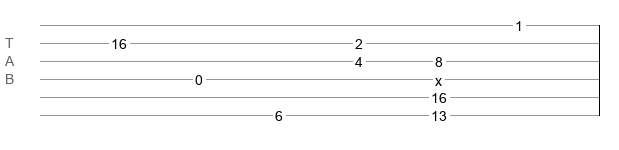0: (195, 72, 203, 82)
1: (515, 18, 523, 28)
13: (431, 108, 447, 118)
16: (111, 36, 127, 46), (431, 90, 447, 100)
2: (355, 36, 363, 46)
4: (355, 54, 363, 64)
6: (275, 108, 283, 118)
8: (435, 54, 443, 64)
x: (435, 73, 442, 81)
